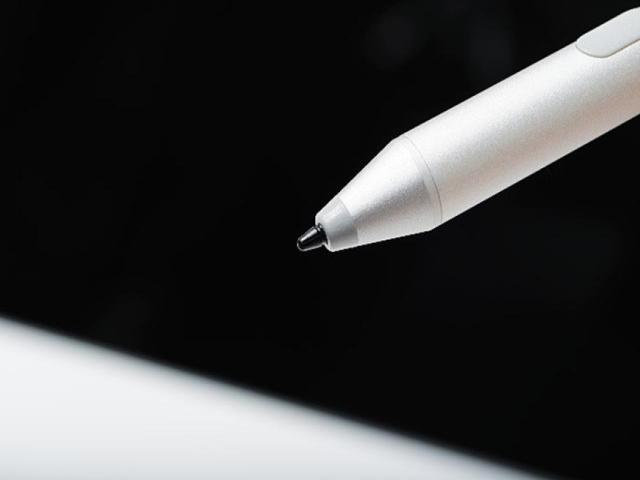PEN: (270, 12, 640, 260)
